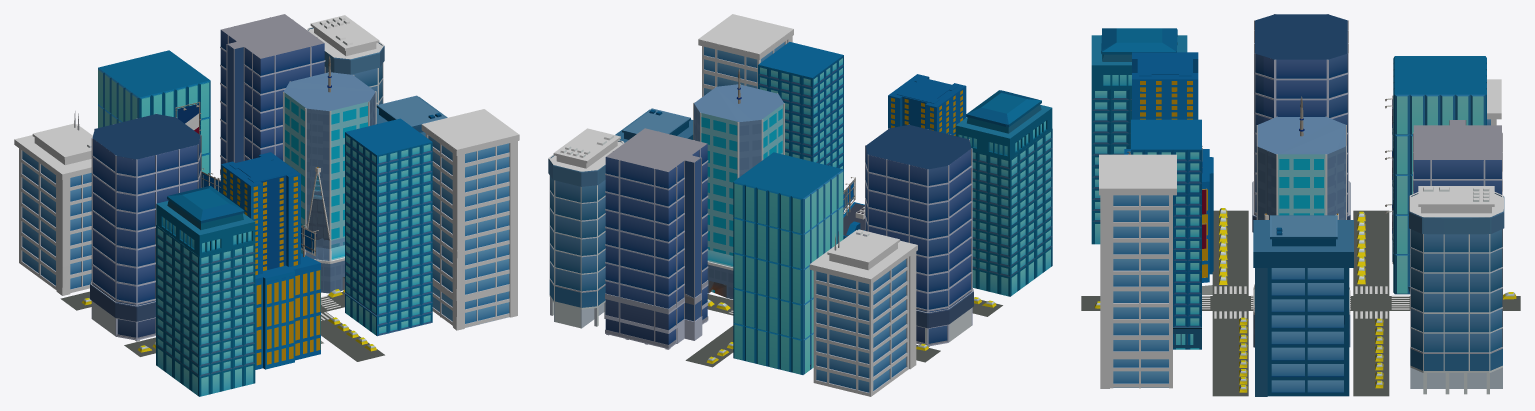
3 views of the same model, side by side, from view 1: azimuth 30°, elevation 25°; view 2: azimuth 150°, elevation 25°; view 3: azimuth 270°, elevation 25° (orthographic). The views are drawn at different scales.
Parts seen in each view (by area): view 1: baseNyc, nycm, topNyc, billboard; view 2: baseNyc, nycm, topNyc, timeSquare; view 3: baseNyc, nycm, topNyc.
Boxes of the visible parts, x1,y1,x2,y2 form: baseNyc: [14, 15, 519, 396]; nycm: [91, 14, 519, 340]; topNyc: [90, 56, 433, 338]; billboard: [175, 101, 201, 134]; baseNyc: [548, 30, 1052, 396]; nycm: [605, 14, 972, 374]; topNyc: [605, 68, 973, 368]; timeSquare: [843, 202, 864, 239]; baseNyc: [1081, 21, 1520, 396]; nycm: [1099, 14, 1502, 387]; topNyc: [1173, 96, 1410, 347].
Bounding box in the file's own units: 0.9999 × 0.6078 × 1.
